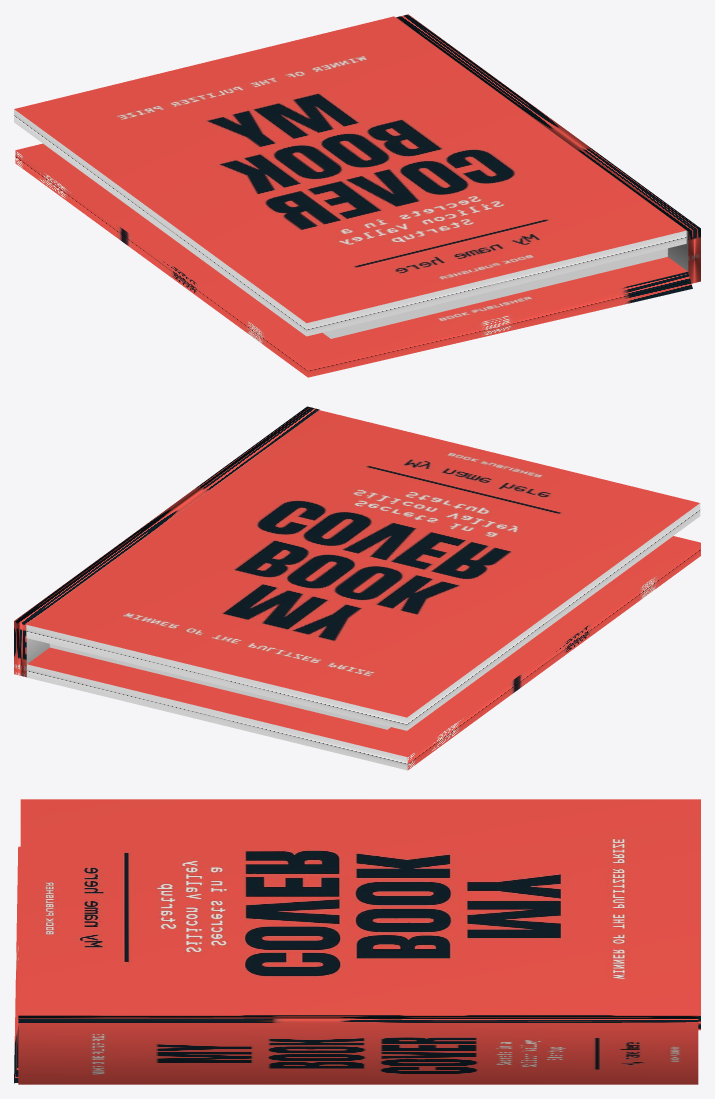
File: book.glb
3 renders of one model, top to bottom at view 1: azimuth 30°, elevation 25°; view 2: azimuth 150°, elevation 25°; view 3: azimuth 270°, elevation 25°, orthographic. The views are drawn at different scales.
Parts seen in each view (by area): view 1: Cover L, Cover R, Spine; view 2: Cover L, Cover R, Spine; view 3: Cover L, Spine, Cover R.
Part boxes in pixels (left/top/right/bottom): Cover L: left=14, top=16, right=686, bottom=336; Cover R: left=15, top=143, right=692, bottom=377; Spine: left=396, top=14, right=700, bottom=283; Cover L: left=26, top=410, right=700, bottom=730; Cover R: left=27, top=536, right=700, bottom=770; Spine: left=14, top=406, right=319, bottom=677; Cover L: left=20, top=799, right=700, bottom=1030; Spine: left=18, top=1015, right=698, bottom=1084; Cover R: left=14, top=846, right=20, bottom=1083.
Size of the model in its own units: 1.55 by 0.2148 by 2.02.
Materials: 9 (4 with a texture image).
